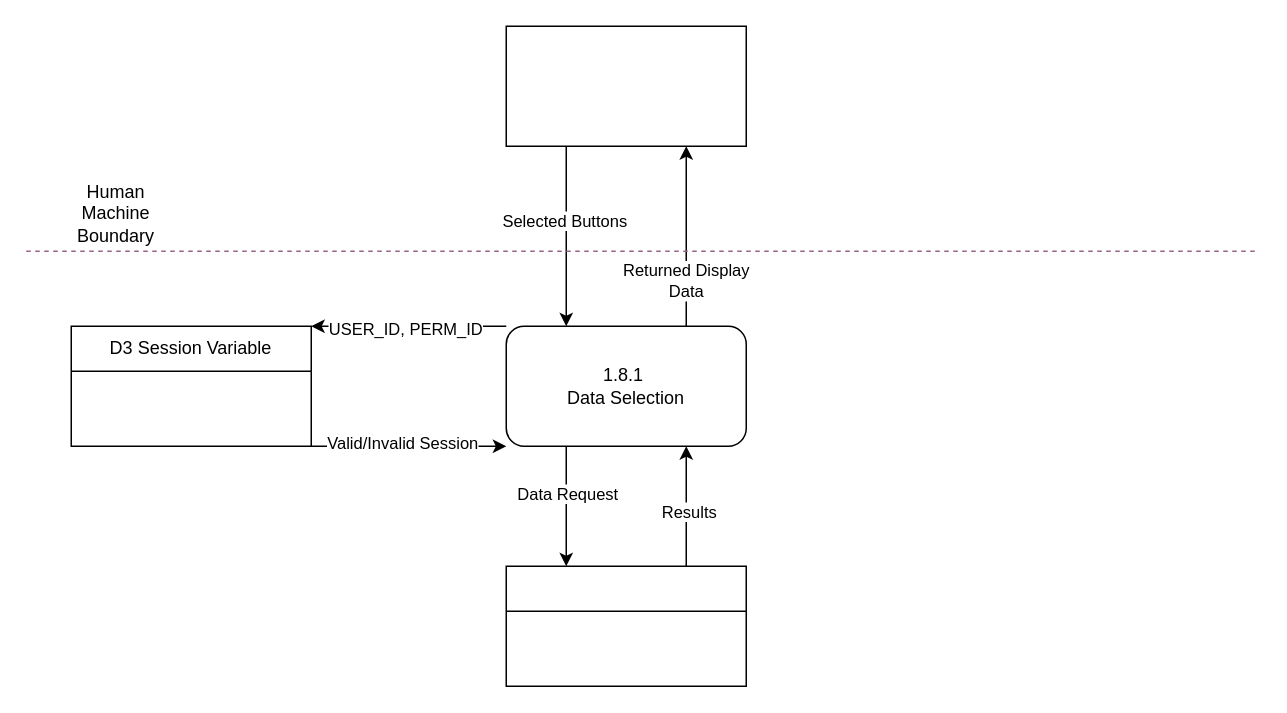
Some shapes in this 1287 by 713 pixel diagram are drawn without their labels. Here are the shapes that lost their labels. From the top down, the centre of each, then its label:
At point (625, 85): "User".
At point (625, 625): "D1 Application Database".
